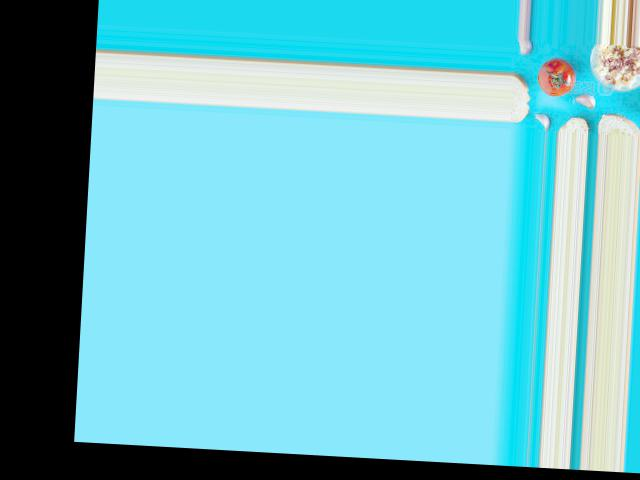tomato: (536, 56, 574, 97)
